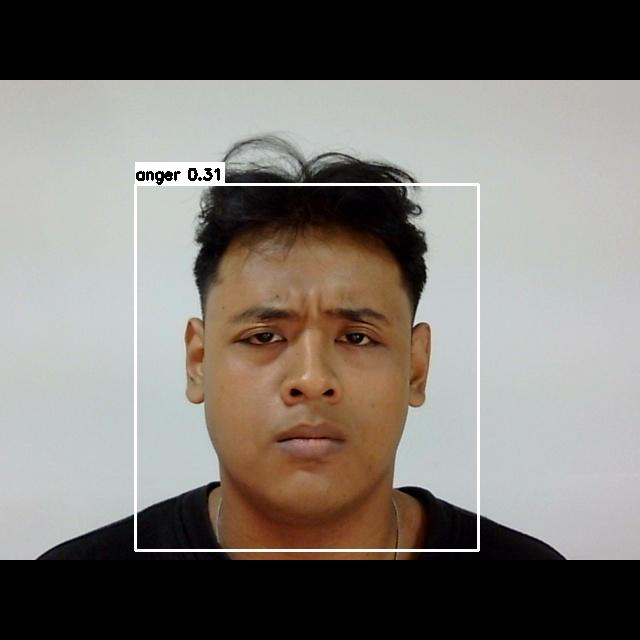Angry: (184, 276, 421, 481)
